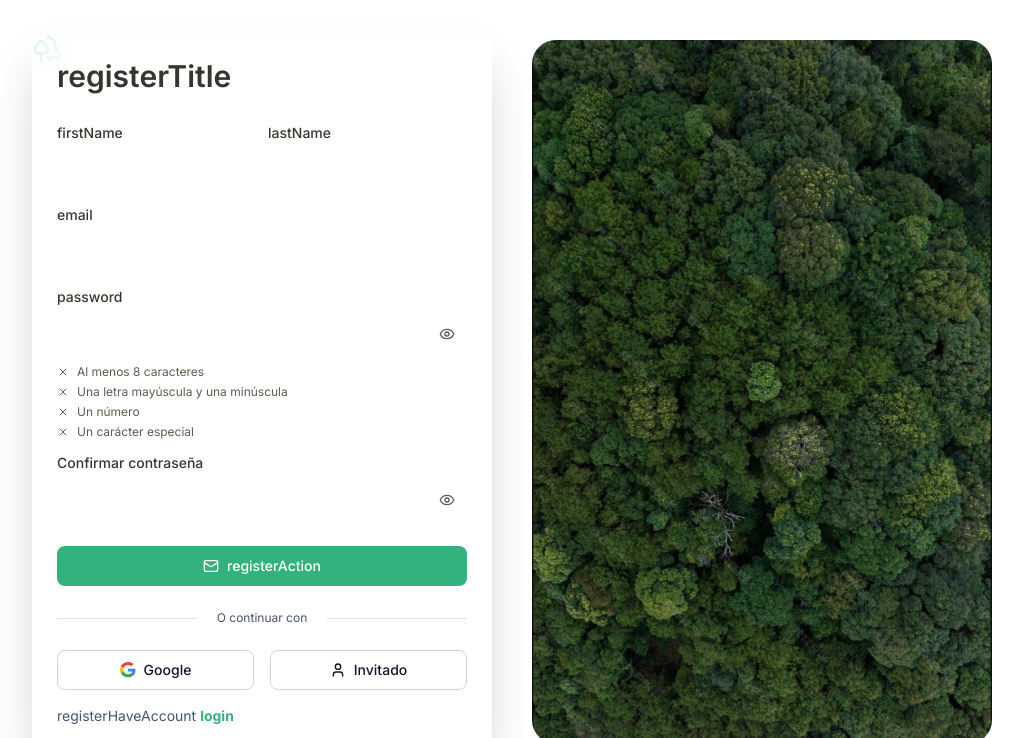
Scenario: RegisterPage Validation › shows password matching error
Type "Valid123!" into the password field labelled "password".
click(262, 334); type("Valid123!")  # box [57,312,467,356]
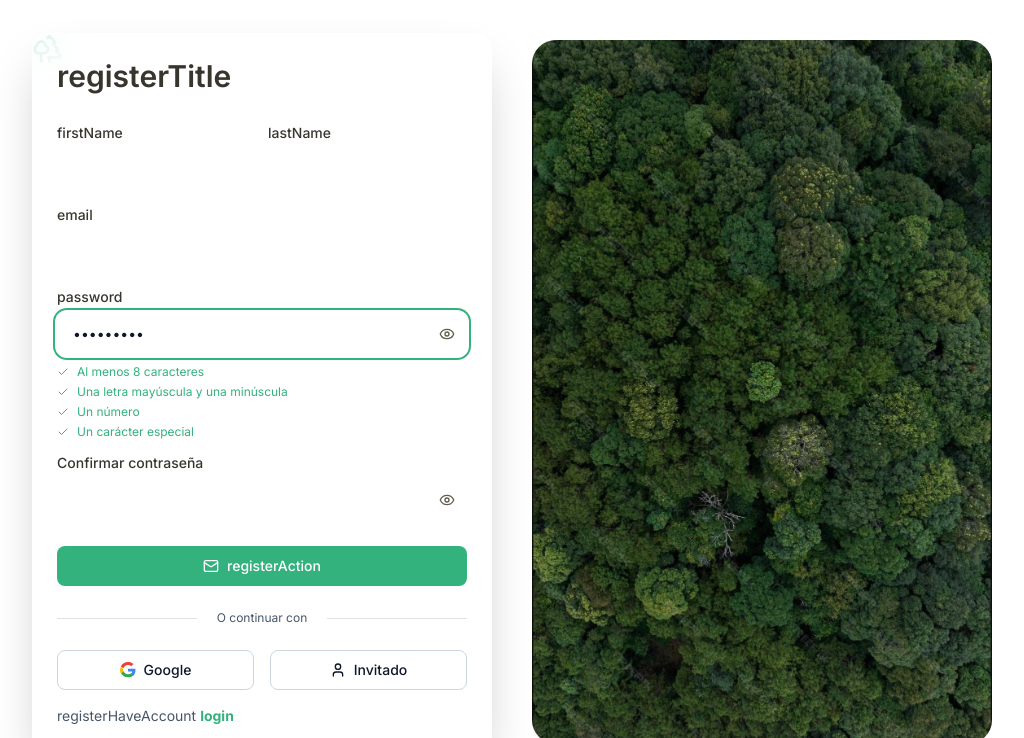
Type "Valid123" into the password field labelled "Confirmar contraseña".
click(262, 500); type("Valid123")  # box [57,478,467,522]
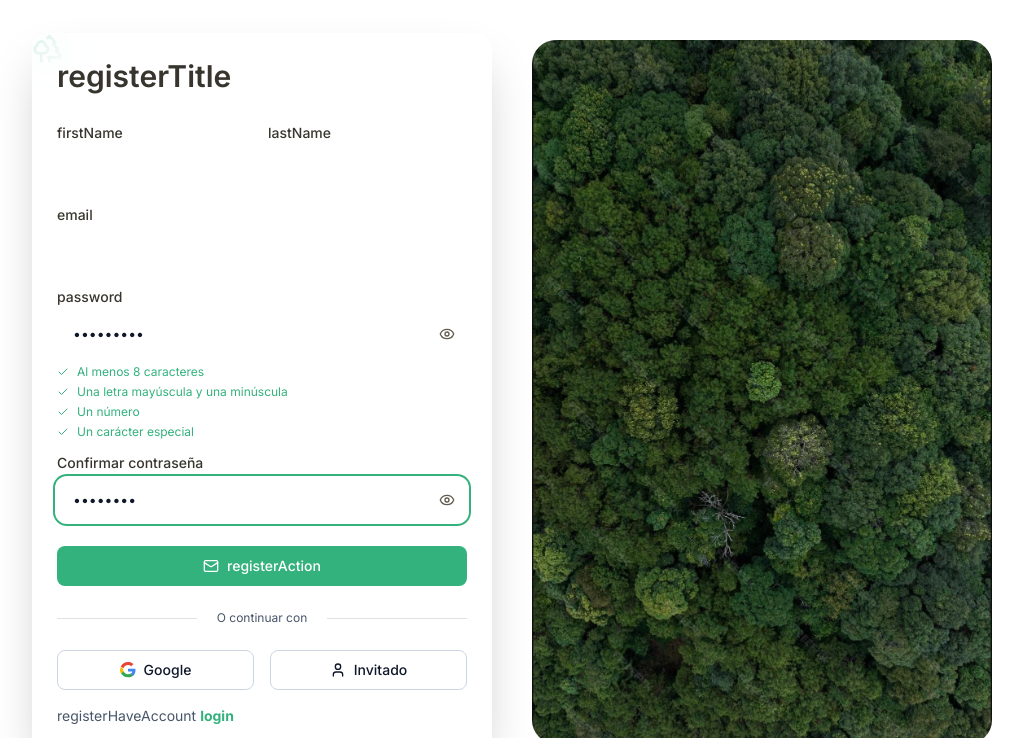
Click the button "registerAction".
click(262, 566)  # box [57,546,467,586]
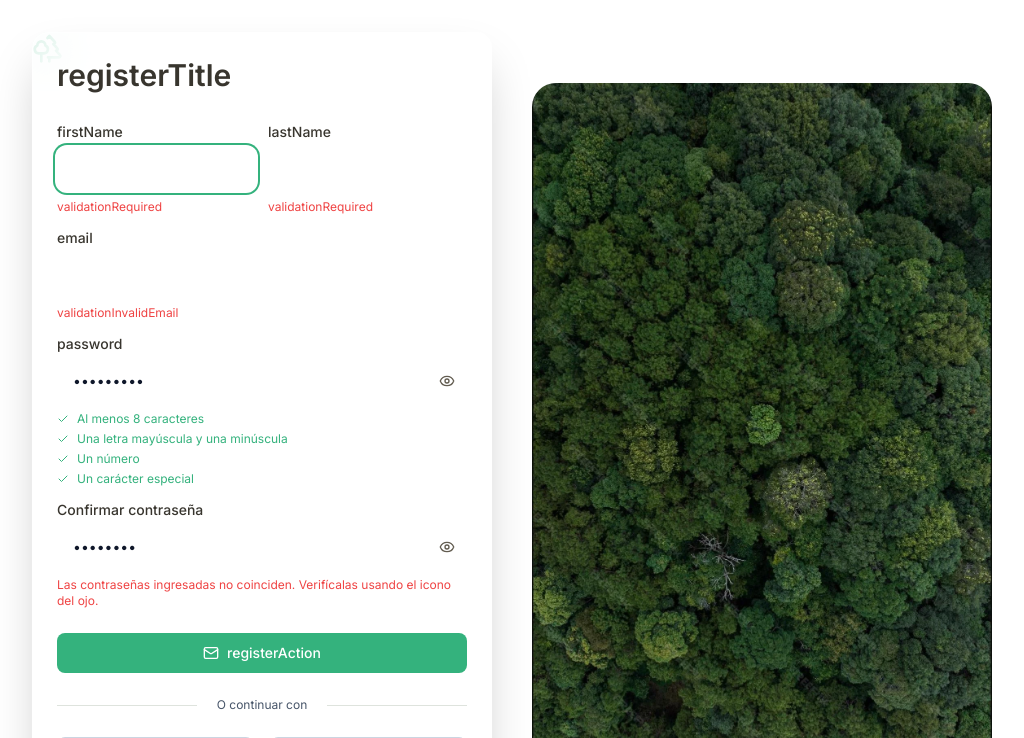
Now the text "Las contraseñas ingresadas no coinciden. Verifícalas usando el icono del ojo." is shown, box [57,577,467,609]
